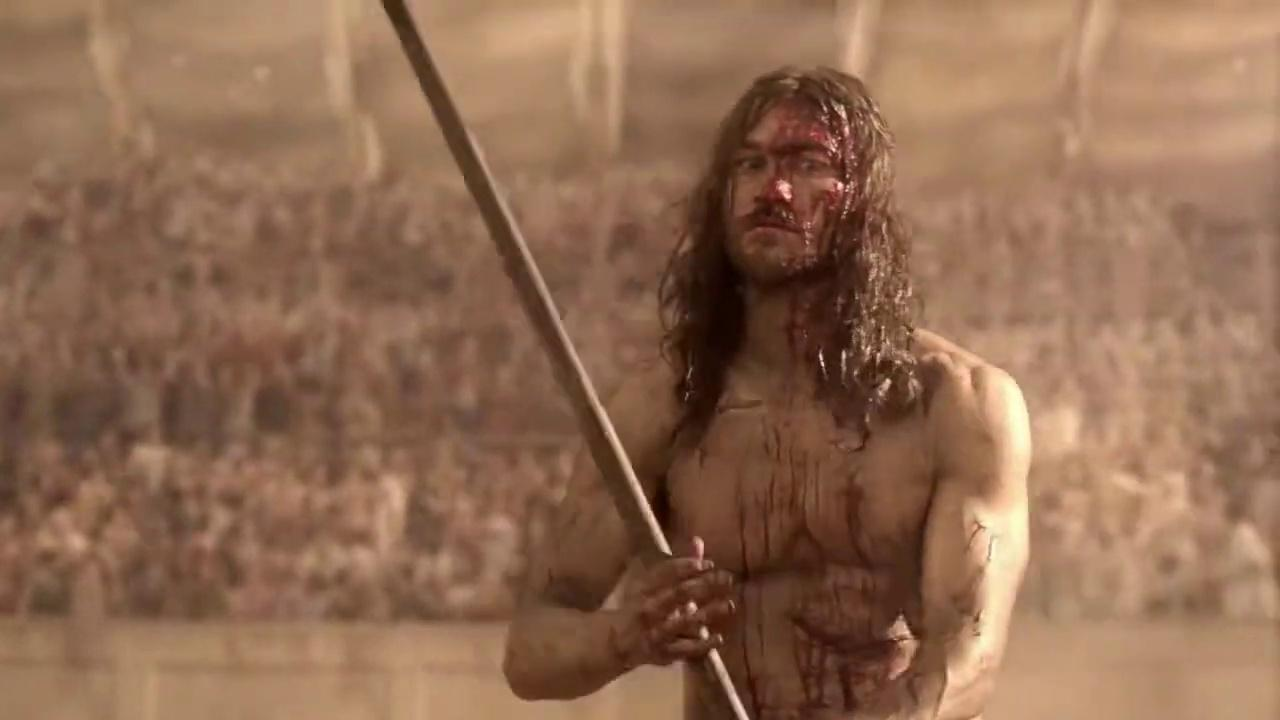Fire: (726, 98, 845, 286)
